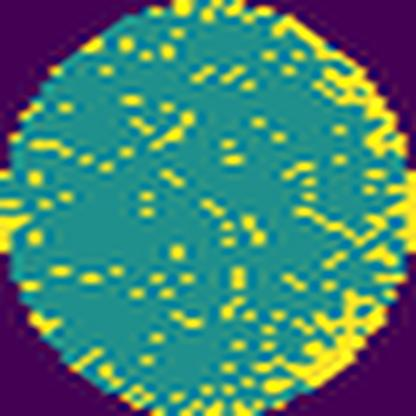Edge-Loc: (285, 7, 409, 157), (286, 283, 393, 392), (387, 170, 415, 262), (0, 214, 30, 251)
